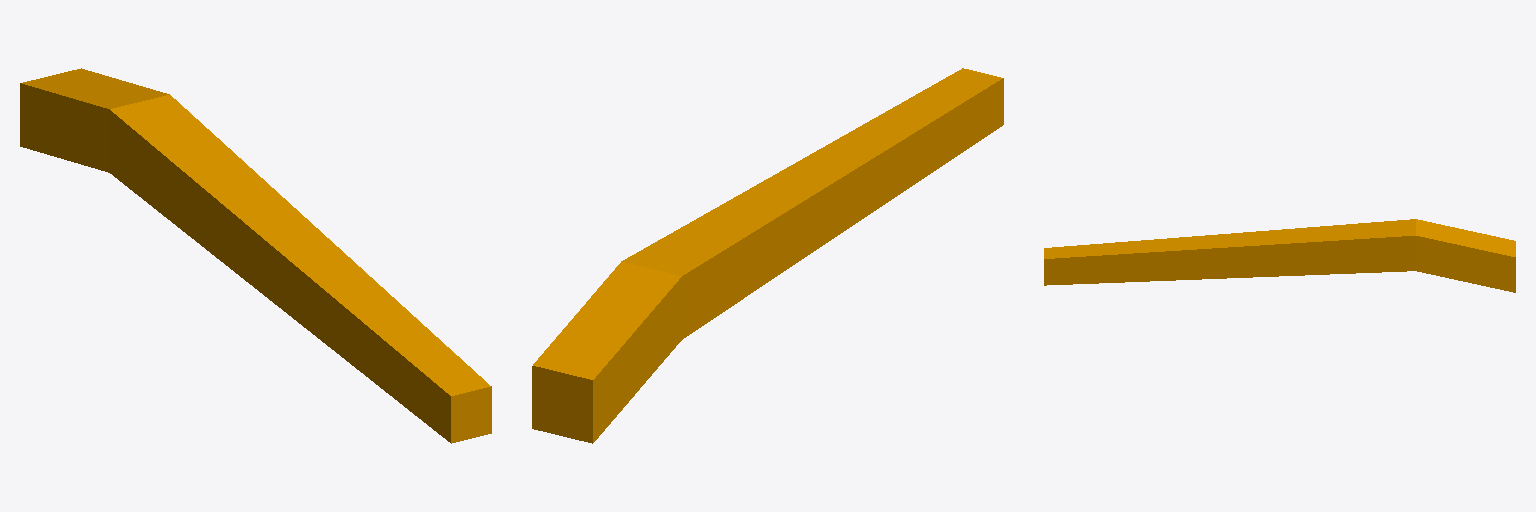
robot.urdf — gripper:
<?xml version="1.0"?>
<robot name="gripper">


    <material name="grey">
        <color rgba="0.2 0.2 0.2 1.0"/>
      </material>
      <material name="orange">
        <color rgba="1.0 0.423529411765 0.0392156862745 1.0"/>
      </material>
      <material name="blue">
      <color rgba="0.5 0.7 1.0 1.0"/>
    </material>

  <link name="trunk">
    <collision>
        <geometry>
            <mesh filename="hunchback.obj" scale="0.1 0.3 0.1"/>
        </geometry>
        <origin xyz="0 0 0" rpy="0 0 0"/>
    </collision>
    <visual>
            <geometry>
                <mesh filename="hunchback.obj" scale="0.1 0.3 0.1"/>
            </geometry>
            <origin xyz="0 0 0" rpy="0 0 0"/>
    </visual>
    <inertial>
      <mass value="9.5"/>
      <inertia ixx="0.001" ixy="0.0" ixz="0.0" iyy="0.001" iyz="0.0" izz="0.001"/>
    </inertial>
  </link>

    <link name="shoulder_left">
        <collision>
            <geometry>
                <cylinder radius="0.05" length="0.6"/>
            </geometry>
            <origin xyz="0 -0.2 0.1" rpy="1.77 0 0"/>
        </collision>
        <inertial>
              <mass value="1.5"/>
              <inertia ixx="0.001" ixy="0.0" ixz="0.0" iyy="0.001" iyz="0.0" izz="0.001"/>
          </inertial>
      </link>

  <link name="shoulder_right">
    <collision>
        <geometry>
            <cylinder radius="0.05" length="0.6"/>
        </geometry>
        <origin xyz="0 -0.2 0.1" rpy="1.77 0 0"/>
    </collision>
   <inertial>
         <mass value="1.5"/>
         <inertia ixx="0.001" ixy="0.0" ixz="0.0" iyy="0.001" iyz="0.0" izz="0.001"/>
     </inertial>
  </link>

  <link name="arm_right">
      <collision>
          <geometry>
              <box size="0.15 0.5 0.15"/>
          </geometry>
          <origin xyz="0.05 0 -0.2" rpy="1.57 0 0"/>
      </collision>

     <inertial>
           <mass value="1.5"/>
           <inertia ixx="0.001" ixy="0.0" ixz="0.0" iyy="0.001" iyz="0.0" izz="0.001"/>
       </inertial>
    </link>

    <link name="arm_left">
      <collision>
          <geometry>
              <box size="0.15 0.5 0.15"/>
          </geometry>
          <origin xyz="-0.05 0 -0.2" rpy="1.57 0 0"/>
      </collision>

     <inertial>
           <mass value="1.5"/>
           <inertia ixx="0.001" ixy="0.0" ixz="0.0" iyy="0.001" iyz="0.0" izz="0.001"/>
       </inertial>
    </link>

    <link name="hammer">
        <collision>
            <geometry>
                <cylinder radius="0.02" length="1.3"/>
            </geometry>
            <origin xyz="0 0 0" rpy="1.57 0 1.57"/>
        </collision>
        <inertial>
          <mass value="1.5"/>
          <inertia ixx="0.001" ixy="0.0" ixz="0.0" iyy="0.001" iyz="0.0" izz="0.001"/>
        </inertial>
      </link>

      <link name="hammer2">
              <collision>
                  <geometry>
                      <cylinder radius="0.02" length="0.9"/>
                  </geometry>
                  <origin xyz="0 0 0" rpy="1.57 0 1.57"/>
              </collision>
              <inertial>
                <mass value="1.5"/>
                <inertia ixx="0.001" ixy="0.0" ixz="0.0" iyy="0.001" iyz="0.0" izz="0.001"/>
              </inertial>
            </link>


  <joint name="trunk_to_shoulder_left" type="revolute">
    <parent link="trunk"/>
    <child link="shoulder_left"/>
    <origin xyz="-0.25 0.55 0.00" rpy="0 0 0"/>
    <axis xyz="-1 0 0"/>
    <limit lower="0" upper="1.57"></limit>
  </joint>

  <joint name="shoulder_left_to_arm_left" type="revolute">
      <parent link="shoulder_left"/>
      <child link="arm_left"/>
      <origin xyz="0 -0.4 0.1" rpy="0 0 0"/>
      <axis xyz="1 0 0"/>
      <limit lower="-0.875" upper="1.57"></limit>
    </joint>

 <joint name="trunk_to_shoulder_right" type="revolute">
        <parent link="trunk"/>
        <child link="shoulder_right"/>
        <origin xyz="0.25 0.55 0.00" rpy="0 0 0"/>
        <axis xyz="-1 0 0"/>
        <limit lower="0" upper="1.57"></limit>
      </joint>

  <joint name="shoulder_right_to_arm_right" type="revolute">
        <parent link="shoulder_right"/>
        <child link="arm_right"/>
        <origin xyz="0 -0.4 0.1" rpy="0 0 0"/>
        <axis xyz="1 0 0"/>
        <limit lower="-0.875" upper="1.57"></limit>
      </joint>

  <joint name="trunk_to_hammer" type="fixed">
          <parent link="trunk"/>
          <child link="hammer"/>
          <origin xyz="0 1.0 -0.1" rpy="0 0 0"/>
          <axis xyz="1 0 0"/>
          <limit lower="0.0" upper="0.0"></limit>
        </joint>

        <joint name="trunk_to_hamme2r" type="fixed">
                  <parent link="trunk"/>
                  <child link="hammer2"/>
                  <origin xyz="0 -1.0 -0.1" rpy="0 0 0"/>
                  <axis xyz="1 0 0"/>
                  <limit lower="0.0" upper="0.0"></limit>
                </joint>
</robot>

--- Render facts (derived) ---
The picture shows the robot from 3 angles, left to right: view 1: azimuth 30°, elevation 25°; view 2: azimuth 150°, elevation 25°; view 3: azimuth 270°, elevation 25°; orthographic projection.
Model gripper with 7 links and 6 joints (4 revolute, 2 fixed), rooted at trunk, posed every joint at zero.
Links seen in each view (by area): view 1: trunk; view 2: trunk; view 3: trunk.
Boxes of the visible links, x1,y1,x2,y2 form: trunk: (20,68,491,443); trunk: (532,68,1003,443); trunk: (1044,219,1515,292).
Size in the robot's own frame: 0.2 by 2.4 by 0.3226 metres.
Meshes: 1 distinct files referenced, 1 mesh visuals loaded (1 OBJ).